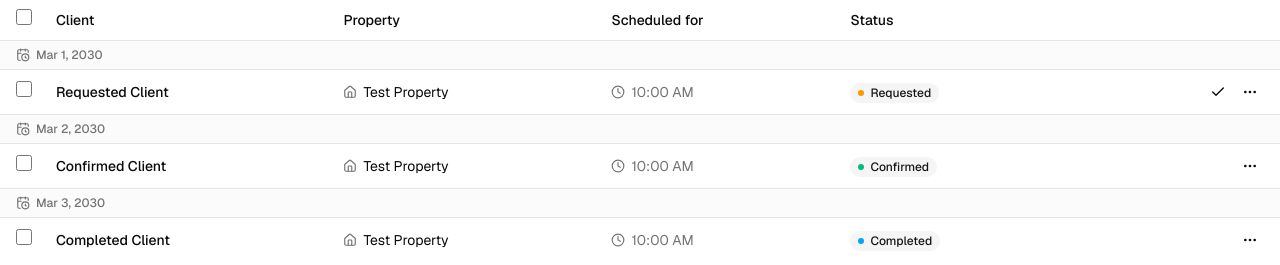
AppointmentsTable › offers a direct Confirm button plus Cancel (in the menu) for a REQUESTED appointment
The width and height of the screenshot is (1280, 265).
Expected: the button named "Confirm appointment with Requested Client" is shown, left=1204, top=78, right=1232, bottom=106
Click the button named "Actions for Requested Client" at (1250, 92), box left=1236, top=78, right=1264, bottom=106
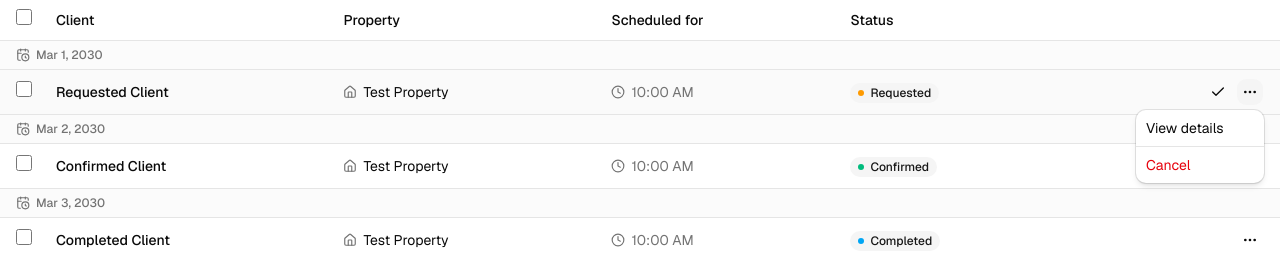
Result: the menu item "View details" is shown at left=1146, top=119, right=1224, bottom=137
Result: the menu item "Cancel" is shown at left=1146, top=156, right=1190, bottom=174
